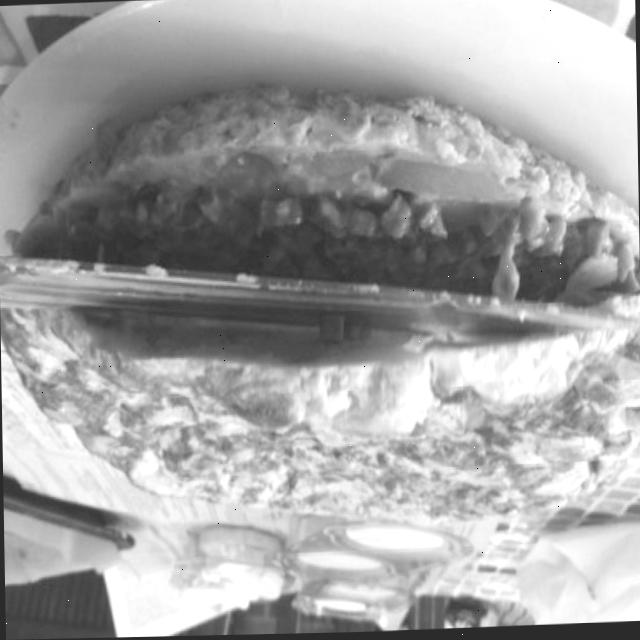面包点心: (6, 0, 640, 591)
